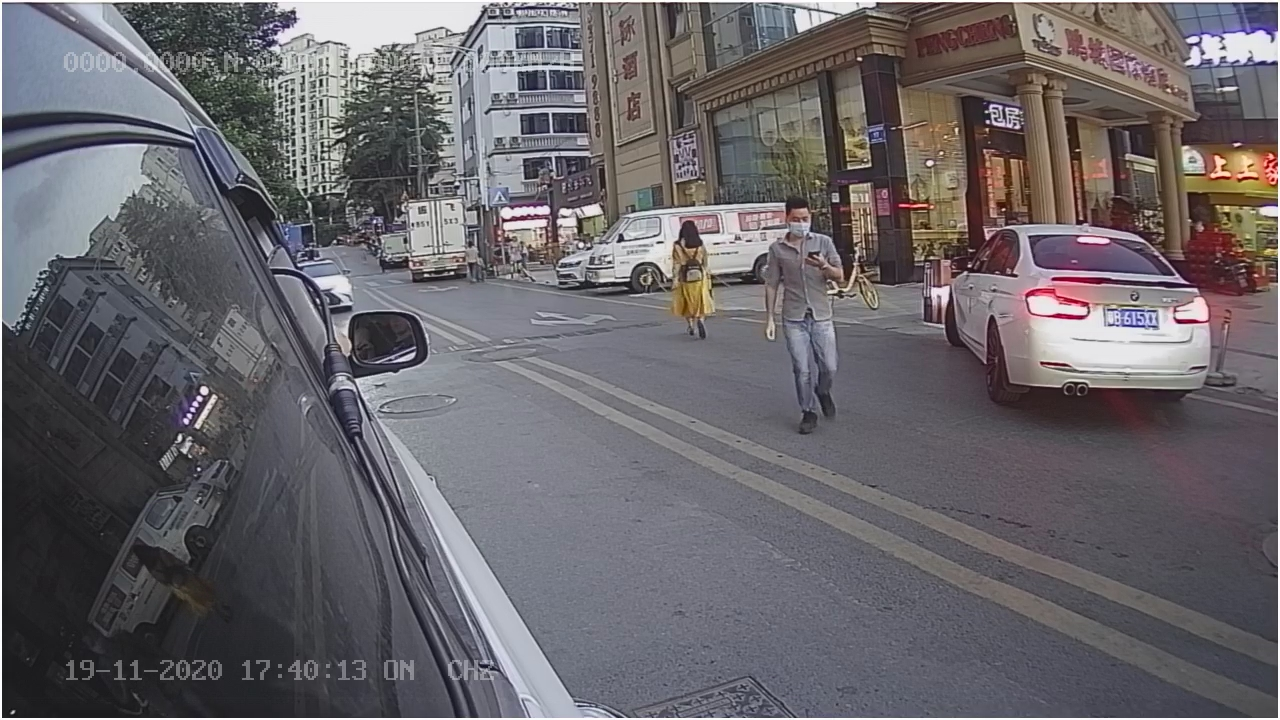person: (749, 194, 856, 440)
